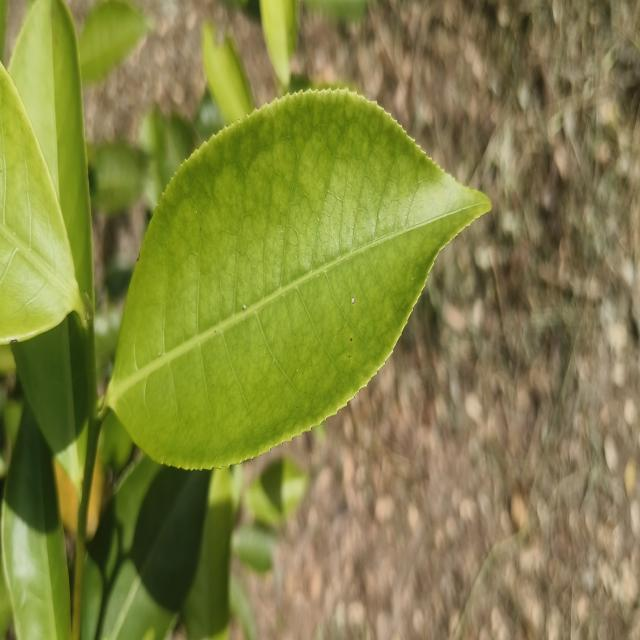Leaf: (106, 90, 491, 468), (9, 0, 94, 305), (81, 457, 211, 640), (0, 68, 83, 344), (1, 404, 71, 640), (12, 314, 88, 497), (182, 468, 235, 640), (79, 0, 151, 82), (202, 22, 254, 124), (88, 140, 148, 213), (245, 458, 308, 525), (259, 0, 298, 88), (232, 524, 276, 573)
